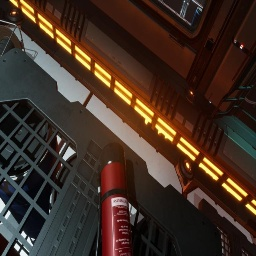FireExtinguisher ]: (95, 142, 133, 256)
